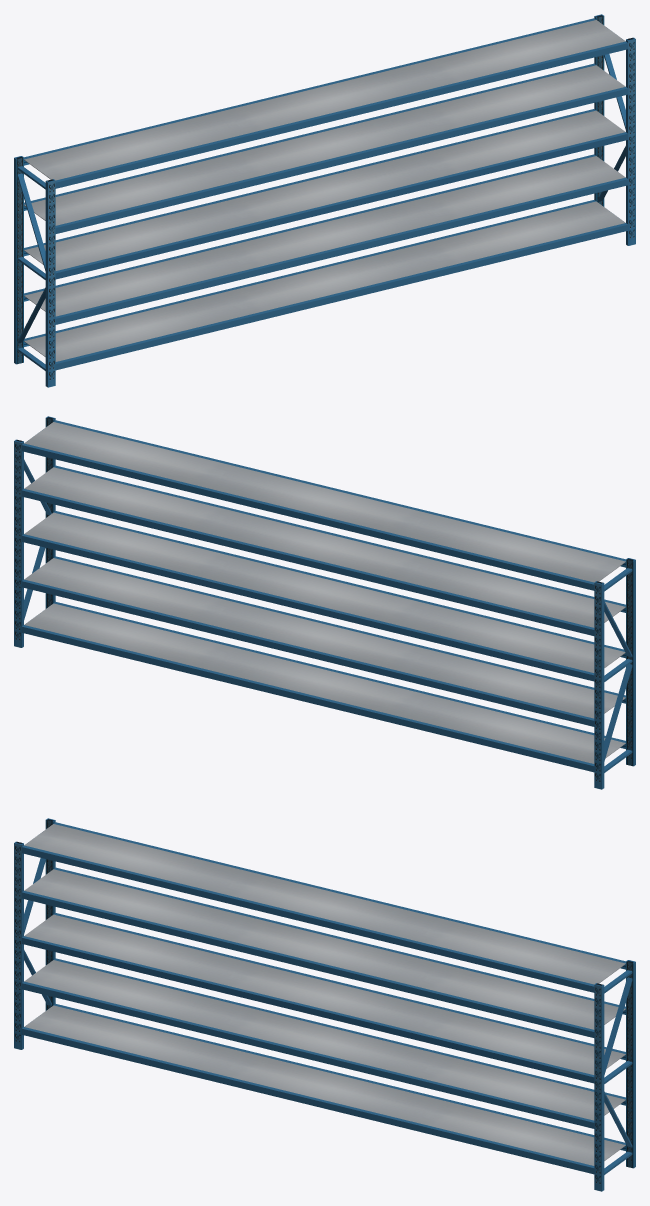
Rendered from myModel.obj.
3 views of the same model, one above another, from view 1: azimuth 30°, elevation 25°; view 2: azimuth 150°, elevation 25°; view 3: azimuth 330°, elevation 25° (orthographic).
Visible parts, largest first — view 1: Mesh2; view 2: Mesh2; view 3: Mesh2.
Part boxes in pixels (x1,y1,x2,y2): Mesh2: (14, 14, 635, 387); Mesh2: (14, 416, 635, 789); Mesh2: (14, 818, 635, 1191).
Size of the model in its own units: 6000 by 2000 by 600.
Materials: 1 (1 with a texture image).
